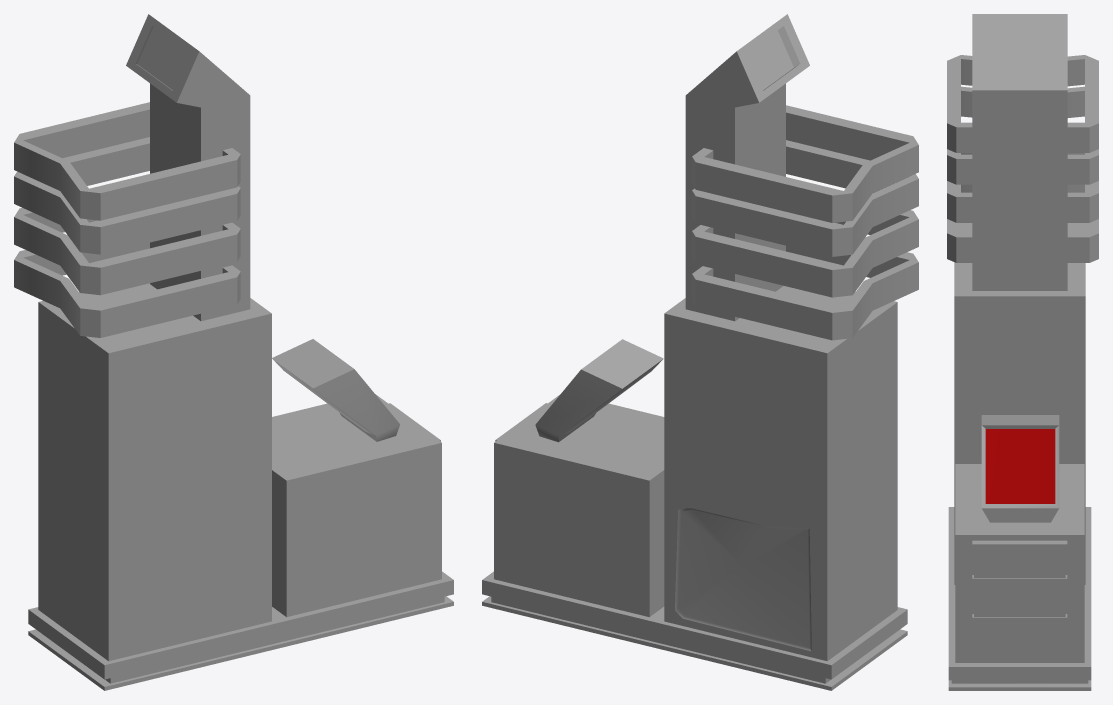
Rendered from Support_panel.fbx.
3 renders of one model, left to right at view 1: azimuth 30°, elevation 25°; view 2: azimuth 150°, elevation 25°; view 3: azimuth 270°, elevation 25°, orthographic. The views are drawn at different scales.
Visible parts, largest first — view 1: Panel_Support, Panels; view 2: Panel_Support, Panels; view 3: Panel_Support, Panels.
Part boxes in pixels (x1,y1,x2,y2): Panel_Support: (14,14,453,690); Panels: (272,339,399,441); Panel_Support: (482,14,918,690); Panels: (535,339,663,442); Panel_Support: (947,14,1098,690); Panels: (981,415,1059,522).
Size of the model in its own units: 278 by 437 by 106.
